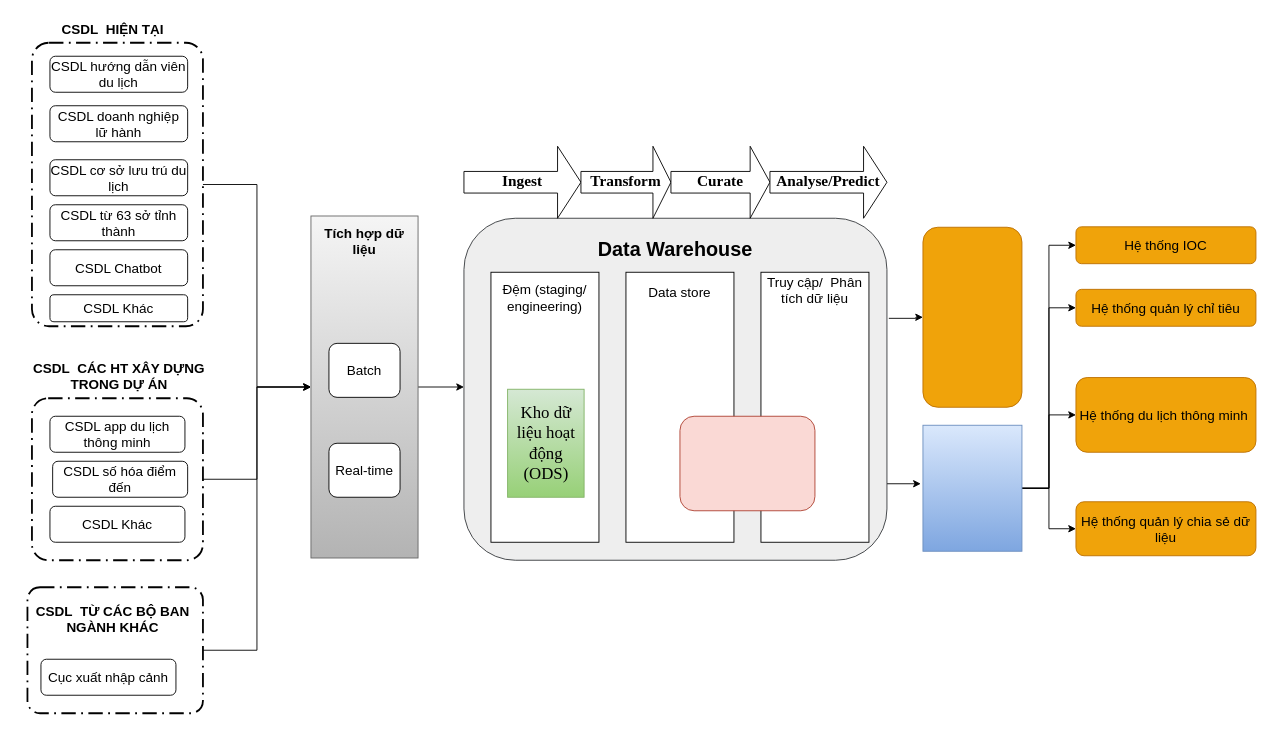
This 1272x729 diagram has some shape labels left out. The shapes that lost their labels are listed below. From the top down, each one's centre as x and y in pixels, then its label:
point (972, 316): Hệ thống BI (Dashboard)
point (747, 463): Mô hình dữ liêu (Data Model)
point (972, 487): API chia sẻ dữ liệu
